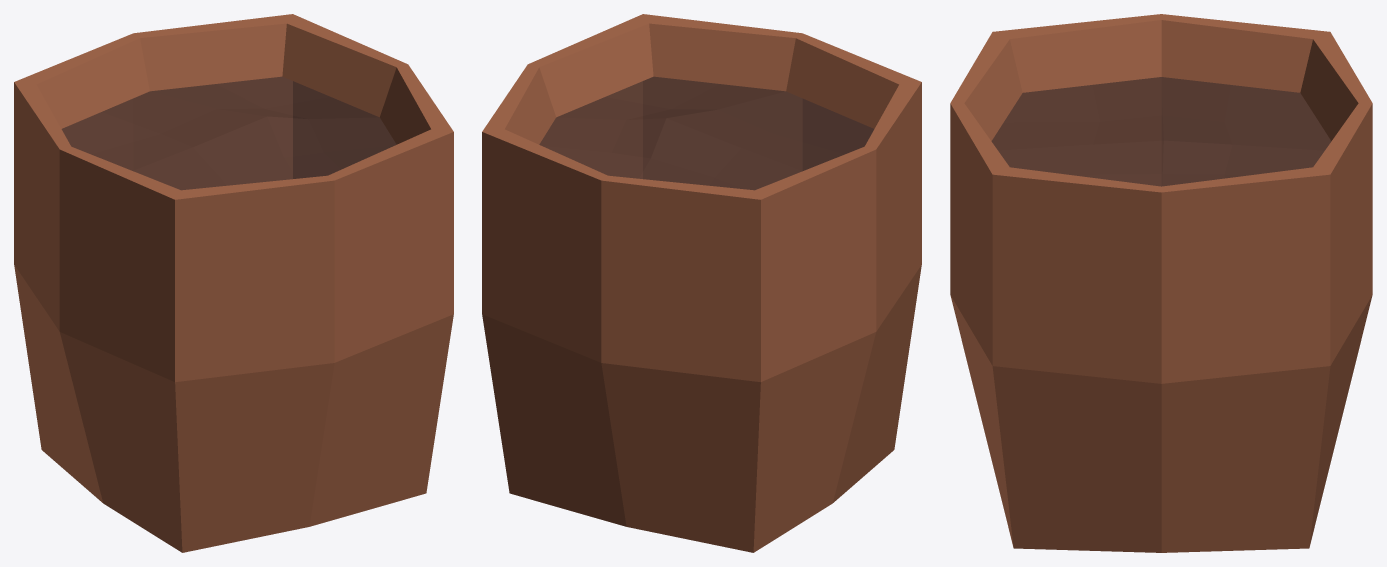
The model's file is small_pot.glb.
3 views of the same model, side by side, from view 1: azimuth 30°, elevation 25°; view 2: azimuth 150°, elevation 25°; view 3: azimuth 270°, elevation 25° (orthographic). The views are drawn at different scales.
Visible parts, largest first — view 1: Куб; view 2: Куб; view 3: Куб.
Part boxes in pixels (x1,y1,x2,y2): Куб: (14, 14, 453, 552); Куб: (482, 14, 921, 552); Куб: (950, 14, 1372, 552).
Bounding box in the file's own units: 1 × 1 × 1.
